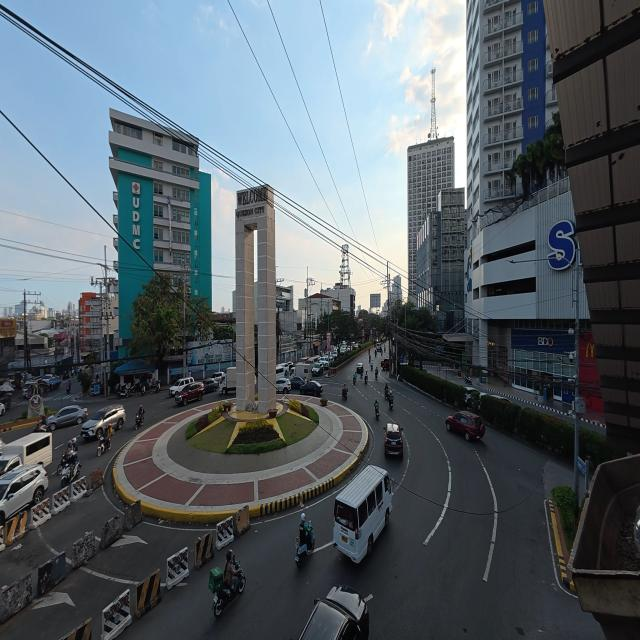car: (300, 585, 369, 639), (0, 465, 48, 525), (81, 404, 125, 439), (446, 412, 484, 441), (47, 406, 88, 430), (175, 382, 204, 405), (385, 424, 403, 457), (170, 377, 194, 395), (300, 380, 322, 397), (203, 378, 219, 394), (465, 387, 478, 405), (276, 378, 291, 393), (23, 381, 37, 397), (290, 376, 305, 389), (489, 394, 510, 403), (312, 362, 324, 376), (211, 372, 223, 384), (380, 358, 390, 370), (356, 362, 364, 374), (375, 343, 382, 354), (288, 362, 294, 374), (0, 403, 5, 415), (347, 346, 351, 352)
motorcycle: (210, 561, 245, 617), (295, 522, 314, 568), (61, 462, 81, 487), (97, 437, 110, 456), (57, 454, 65, 475), (117, 385, 129, 398), (130, 381, 142, 394), (33, 423, 50, 432), (135, 414, 144, 429), (151, 380, 160, 392), (465, 375, 472, 384), (342, 388, 347, 400), (389, 396, 393, 410), (66, 383, 71, 394), (141, 384, 146, 395), (375, 407, 379, 419), (385, 388, 389, 399), (375, 370, 378, 380), (353, 376, 356, 385), (370, 362, 373, 371), (360, 371, 363, 378), (365, 375, 367, 384)
trucks: (220, 367, 236, 394)
vans: (334, 466, 391, 562), (2, 433, 52, 466), (170, 377, 194, 396), (295, 363, 312, 380), (276, 363, 290, 377), (276, 364, 285, 378), (307, 356, 319, 365)
